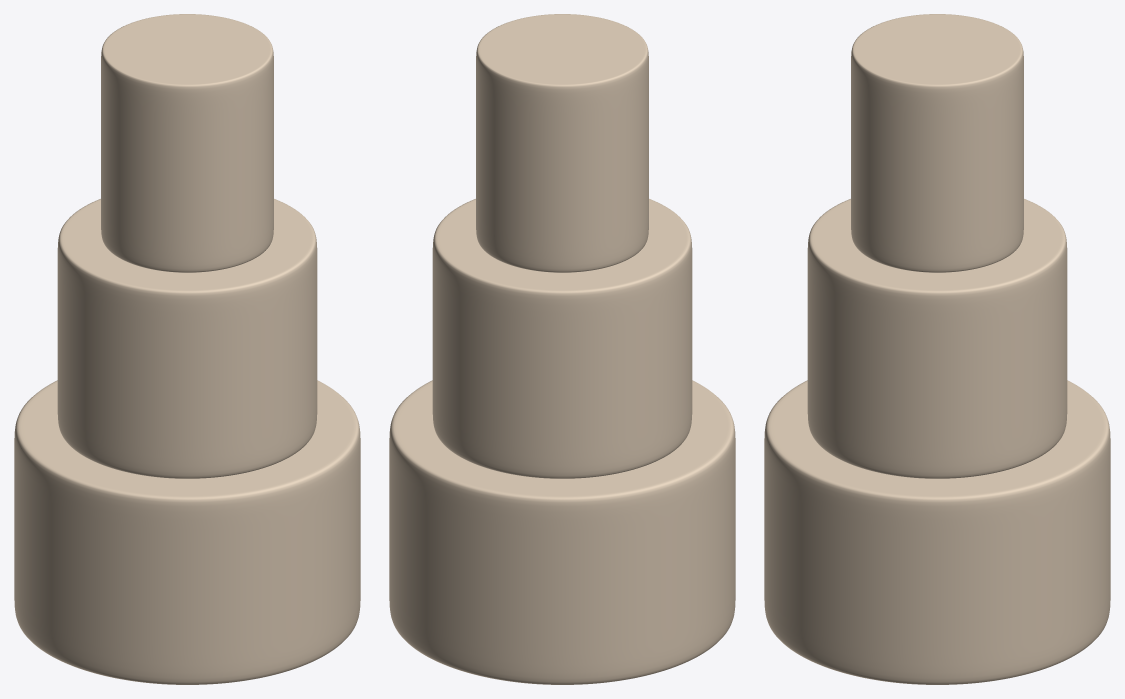
Rendered from Cake_Layer_3_Cream.glb.
The picture shows the model from 3 angles, left to right: view 1: azimuth 30°, elevation 25°; view 2: azimuth 150°, elevation 25°; view 3: azimuth 270°, elevation 25°; orthographic projection.
Parts seen in each view (by area): view 1: Circle.001, Circle.002, Circle.003; view 2: Circle.001, Circle.002, Circle.003; view 3: Circle.001, Circle.002, Circle.003.
Boxes of the visible parts, x1=… form: Circle.001: x1=14, y1=380, x2=360, y2=684; Circle.002: x1=57, y1=199, x2=317, y2=478; Circle.003: x1=101, y1=14, x2=273, y2=272; Circle.001: x1=389, y1=380, x2=735, y2=684; Circle.002: x1=432, y1=199, x2=692, y2=478; Circle.003: x1=476, y1=14, x2=648, y2=272; Circle.001: x1=764, y1=380, x2=1110, y2=684; Circle.002: x1=807, y1=199, x2=1067, y2=478; Circle.003: x1=851, y1=14, x2=1023, y2=272.
Bounding box in the file's own units: 0.2 × 0.36 × 0.2.
